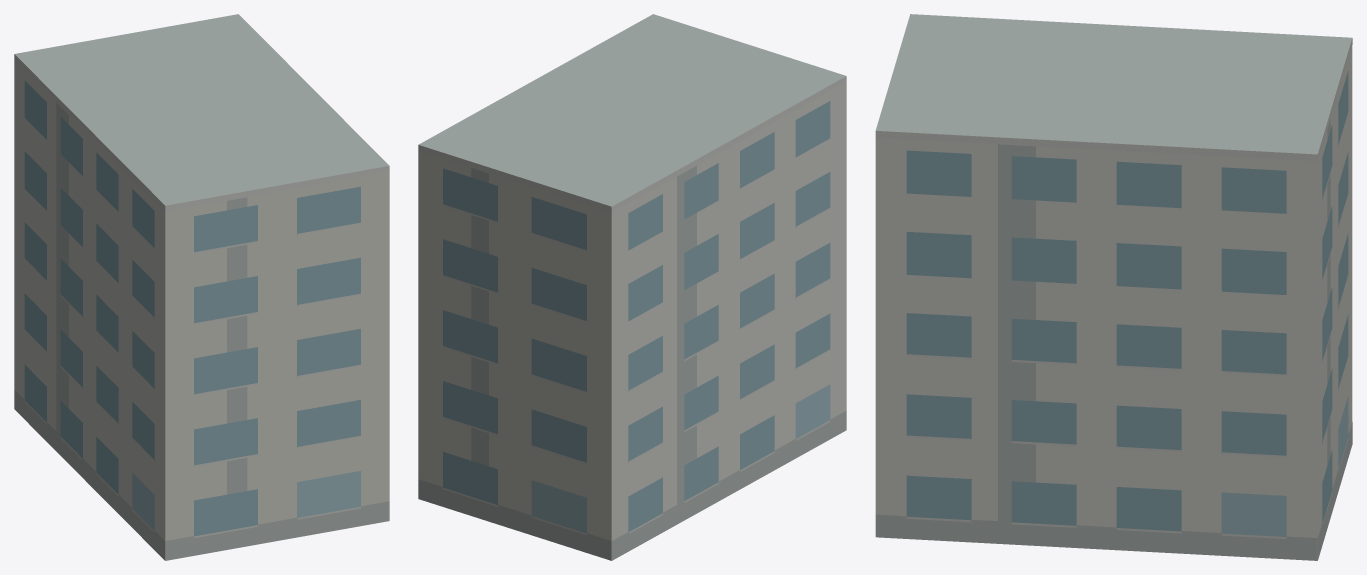
File: survey-upis-32957787.glb
The picture shows the model from 3 angles, left to right: view 1: azimuth 30°, elevation 25°; view 2: azimuth 150°, elevation 25°; view 3: azimuth 270°, elevation 25°; orthographic projection. The views are drawn at different scales.
Visible parts, largest first — view 1: survey-upis-32957787.tmp; view 2: survey-upis-32957787.tmp; view 3: survey-upis-32957787.tmp.
Boxes of the visible parts, bbox=[...] form: survey-upis-32957787.tmp: bbox=[14, 14, 389, 560]; survey-upis-32957787.tmp: bbox=[418, 14, 846, 560]; survey-upis-32957787.tmp: bbox=[875, 14, 1352, 560].
Size of the model in its own units: 10.46 by 14.1 by 15.
